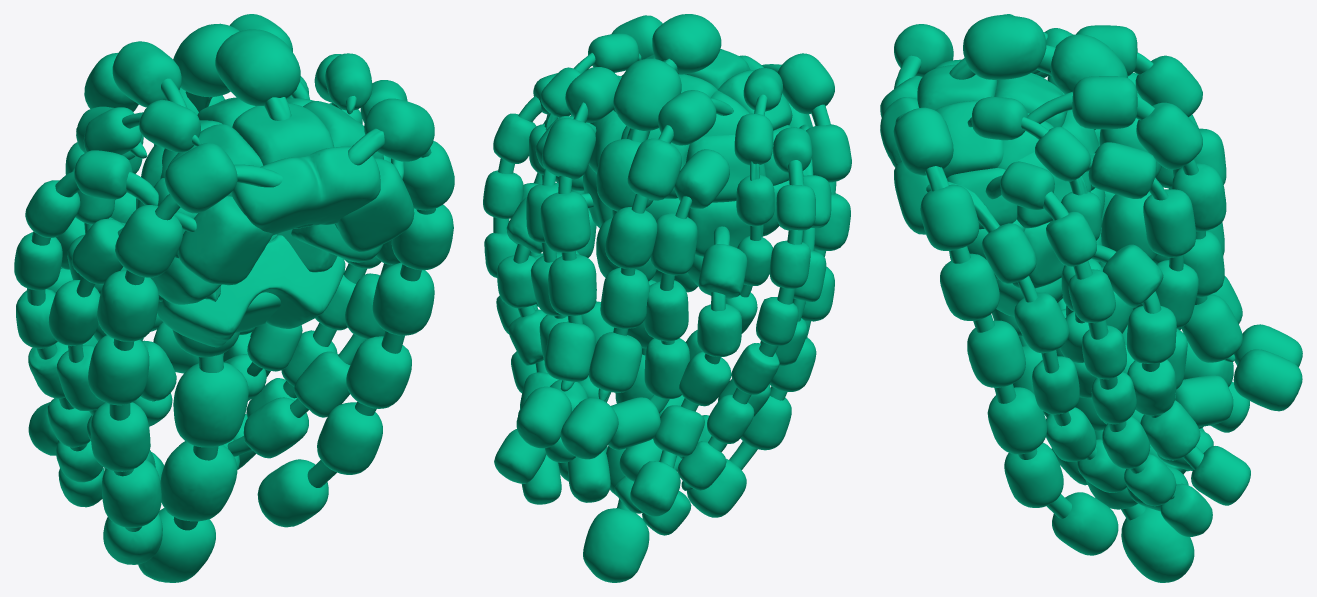
File: Model_Hair_Base_049_PuffyBraids.fbx
The picture shows the model from 3 angles, left to right: view 1: azimuth 30°, elevation 25°; view 2: azimuth 150°, elevation 25°; view 3: azimuth 270°, elevation 25°; orthographic projection. The views are drawn at different scales.
Parts seen in each view (by area): view 1: Hair_Base_22BubbleBraids_22; view 2: Hair_Base_22BubbleBraids_22; view 3: Hair_Base_22BubbleBraids_22.
Part boxes in pixels (x1,y1,x2,y2): Hair_Base_22BubbleBraids_22: [14, 14, 454, 582]; Hair_Base_22BubbleBraids_22: [483, 14, 851, 582]; Hair_Base_22BubbleBraids_22: [880, 14, 1302, 582].
Size of the model in its own units: 241 by 366 by 250.
